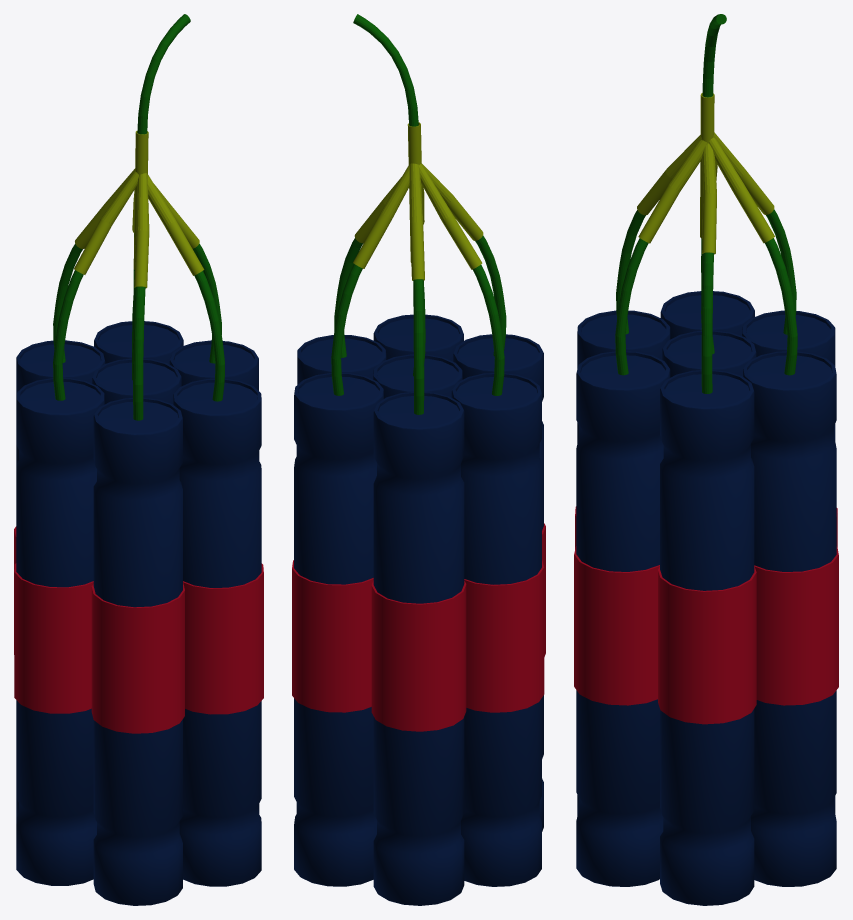
Rendered from Pack_Dynamite.fbx.
3 renders of one model, left to right at view 1: azimuth 30°, elevation 25°; view 2: azimuth 150°, elevation 25°; view 3: azimuth 270°, elevation 25°, orthographic. The views are drawn at different scales.
Parts seen in each view (by area): view 1: pack dynamite; view 2: pack dynamite; view 3: pack dynamite.
Boxes of the visible parts, x1,y1,x2,y2 form: pack dynamite: (14, 14, 263, 905); pack dynamite: (292, 14, 545, 905); pack dynamite: (574, 14, 838, 905).
Bounding box in the file's own units: 7.6 × 25.27 × 7.04.
